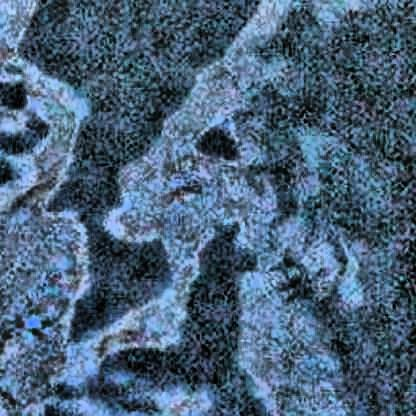sheen: (99, 17, 259, 360), (0, 0, 89, 416), (242, 219, 362, 416)
